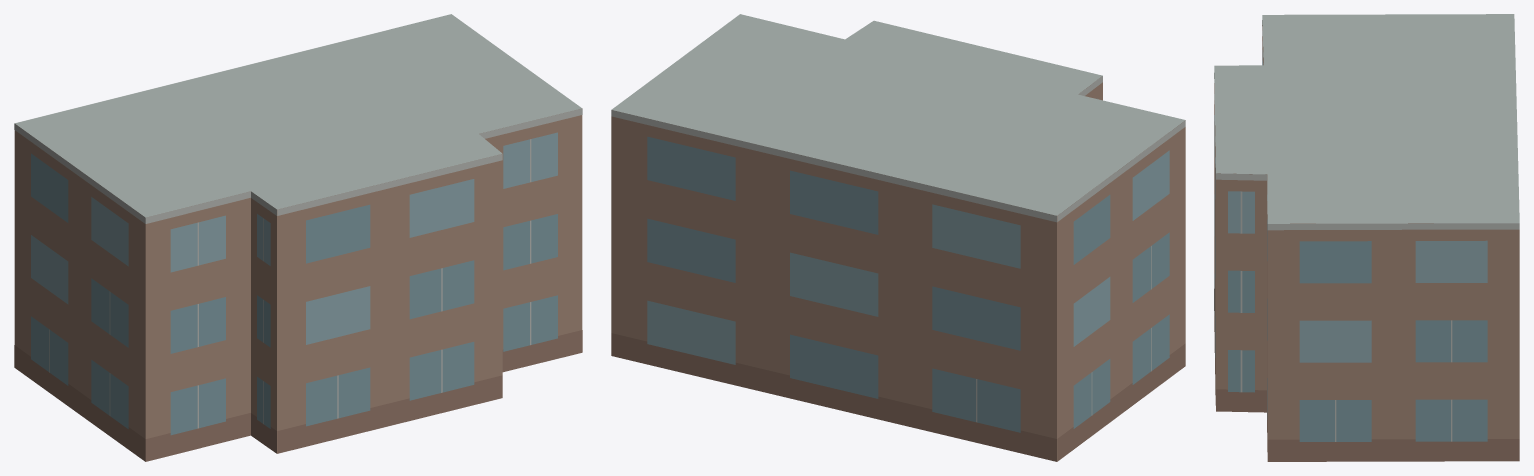
File: survey-upis-32768491.glb
The picture shows the model from 3 angles, left to right: view 1: azimuth 30°, elevation 25°; view 2: azimuth 150°, elevation 25°; view 3: azimuth 270°, elevation 25°; orthographic projection. The views are drawn at different scales.
Parts seen in each view (by area): view 1: survey-upis-32768491.tmp; view 2: survey-upis-32768491.tmp; view 3: survey-upis-32768491.tmp.
Part boxes in pixels (box(x1,y1,x2,y2)): survey-upis-32768491.tmp: box(14, 14, 582, 461); survey-upis-32768491.tmp: box(611, 14, 1185, 461); survey-upis-32768491.tmp: box(1214, 14, 1519, 461).
Bounding box in the file's own units: 17.31 × 9.15 × 10.66.
